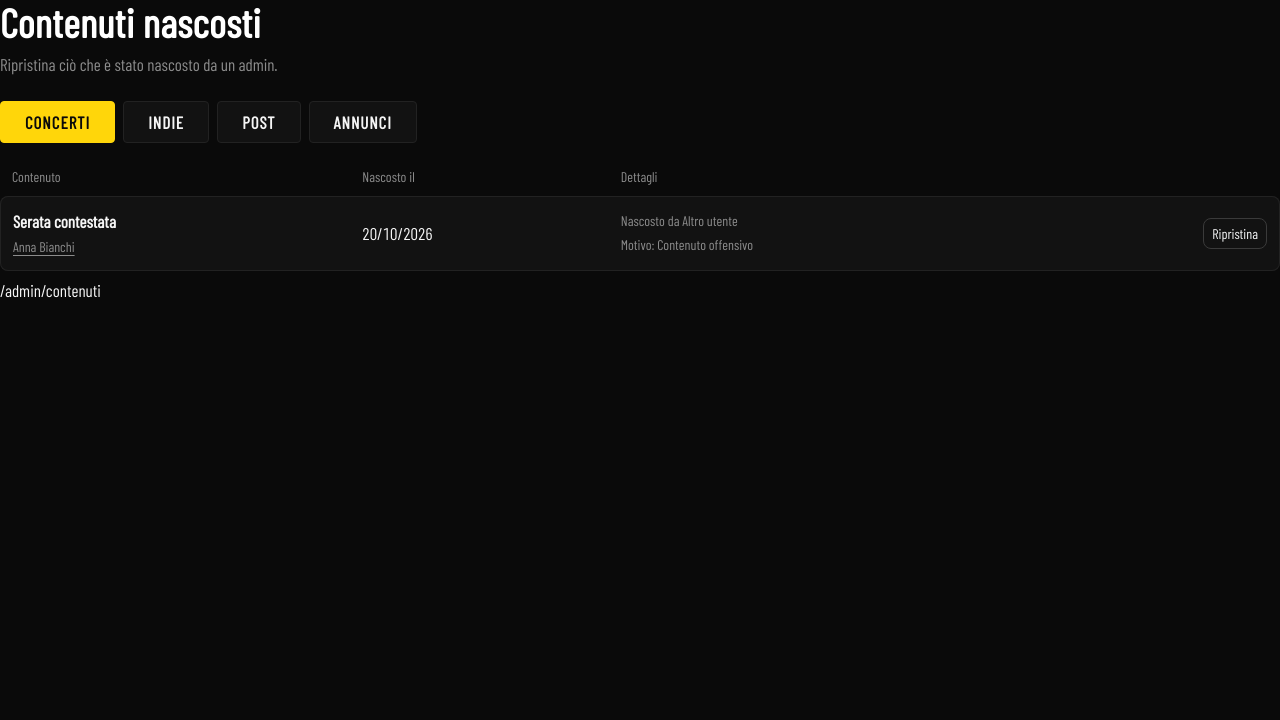
Test: HiddenContentPage · ripristino › «Annulla» non chiama il backend
Expected: the text "Serata contestata" is shown, 13,211 -> 116,231
What coordinates should you click on to do the following:
click the button "Ripristina"
I would click on:
 (1235, 233)
Its box is 1203,218 -> 1267,248.
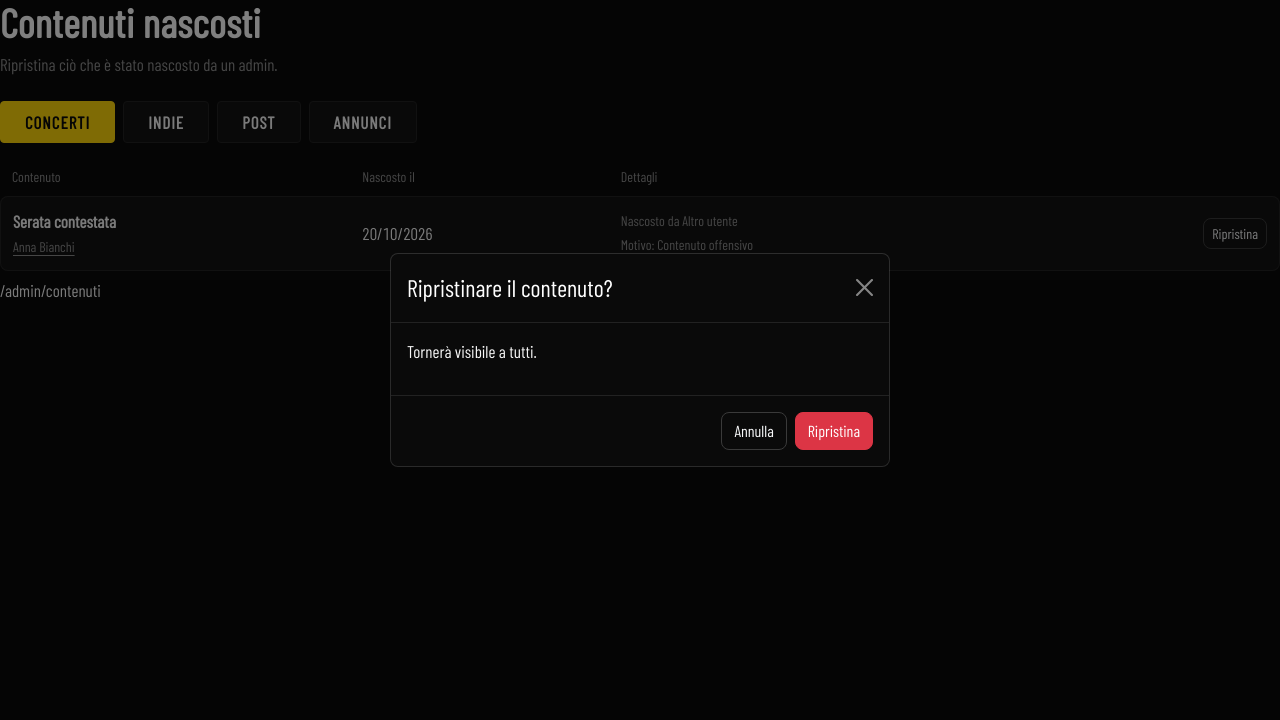
What coordinates should you click on to do the following:
click the button "Annulla"
I would click on:
 (754, 431)
Its box is 721,412 -> 787,450.
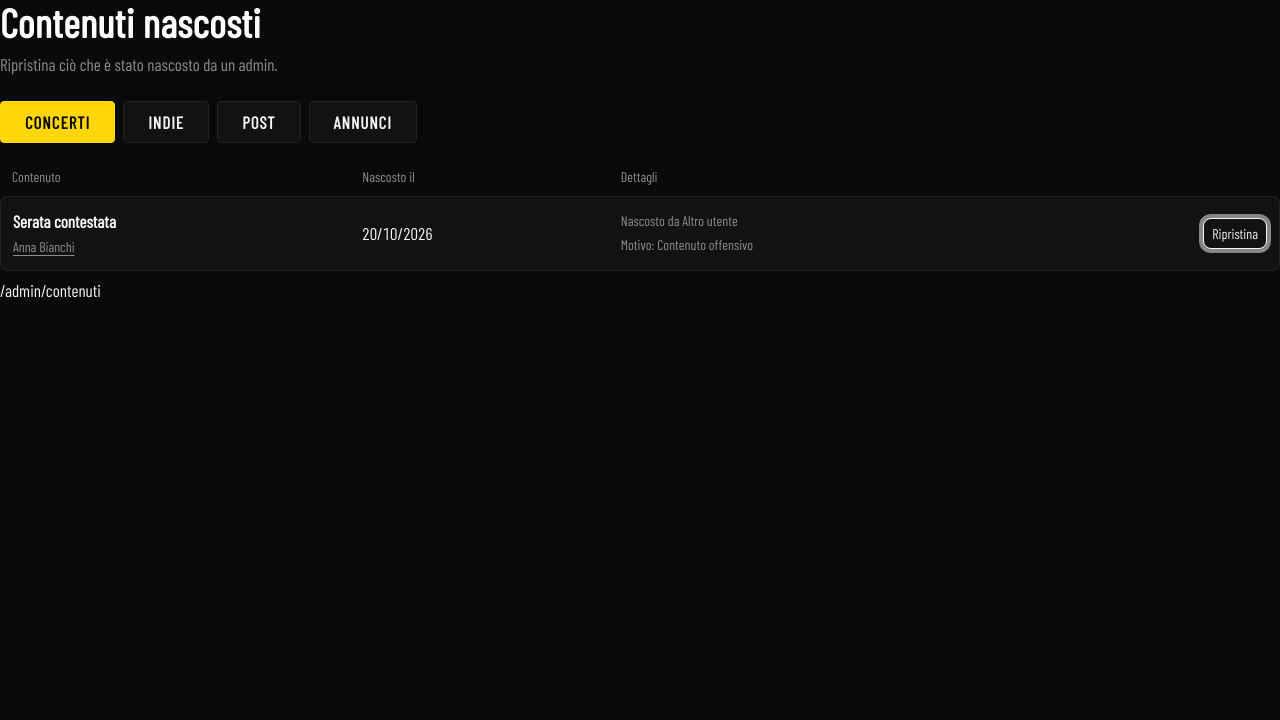
Expected: the dialog is gone
